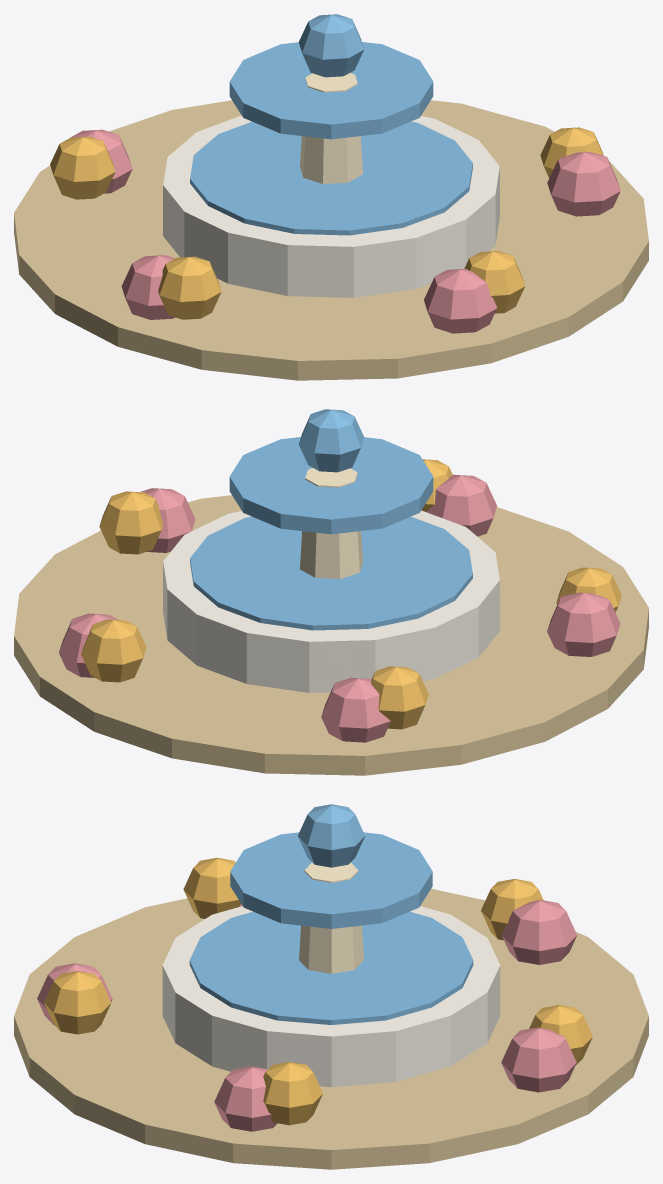
The model's file is park.glb.
The picture shows the model from 3 angles, top to bottom: view 1: azimuth 30°, elevation 25°; view 2: azimuth 150°, elevation 25°; view 3: azimuth 270°, elevation 25°; orthographic projection.
Visible parts, largest first — view 1: park; view 2: park; view 3: park.
Part boxes in pixels (bbox=[...]): park: bbox=[14, 14, 648, 380]; park: bbox=[14, 409, 648, 775]; park: bbox=[14, 804, 648, 1169].
Size of the model in its own units: 4.7 by 1.88 by 4.7.
